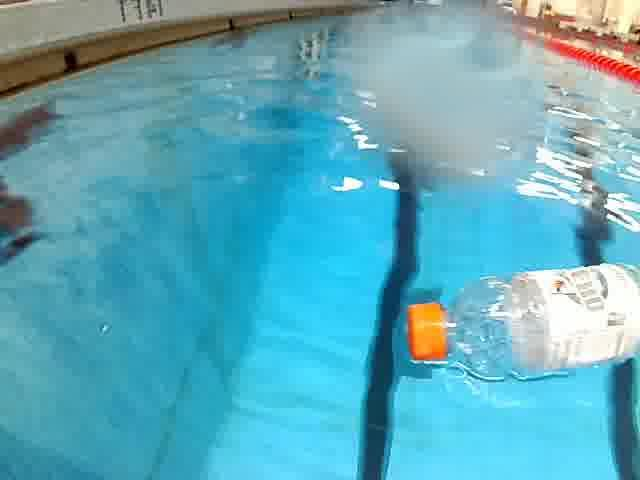Bottle: (396, 250, 640, 390)
